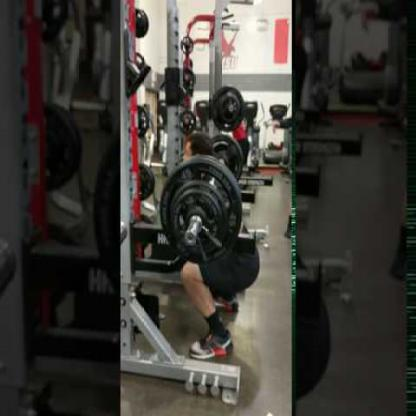Barbell: (154, 151, 249, 268)
